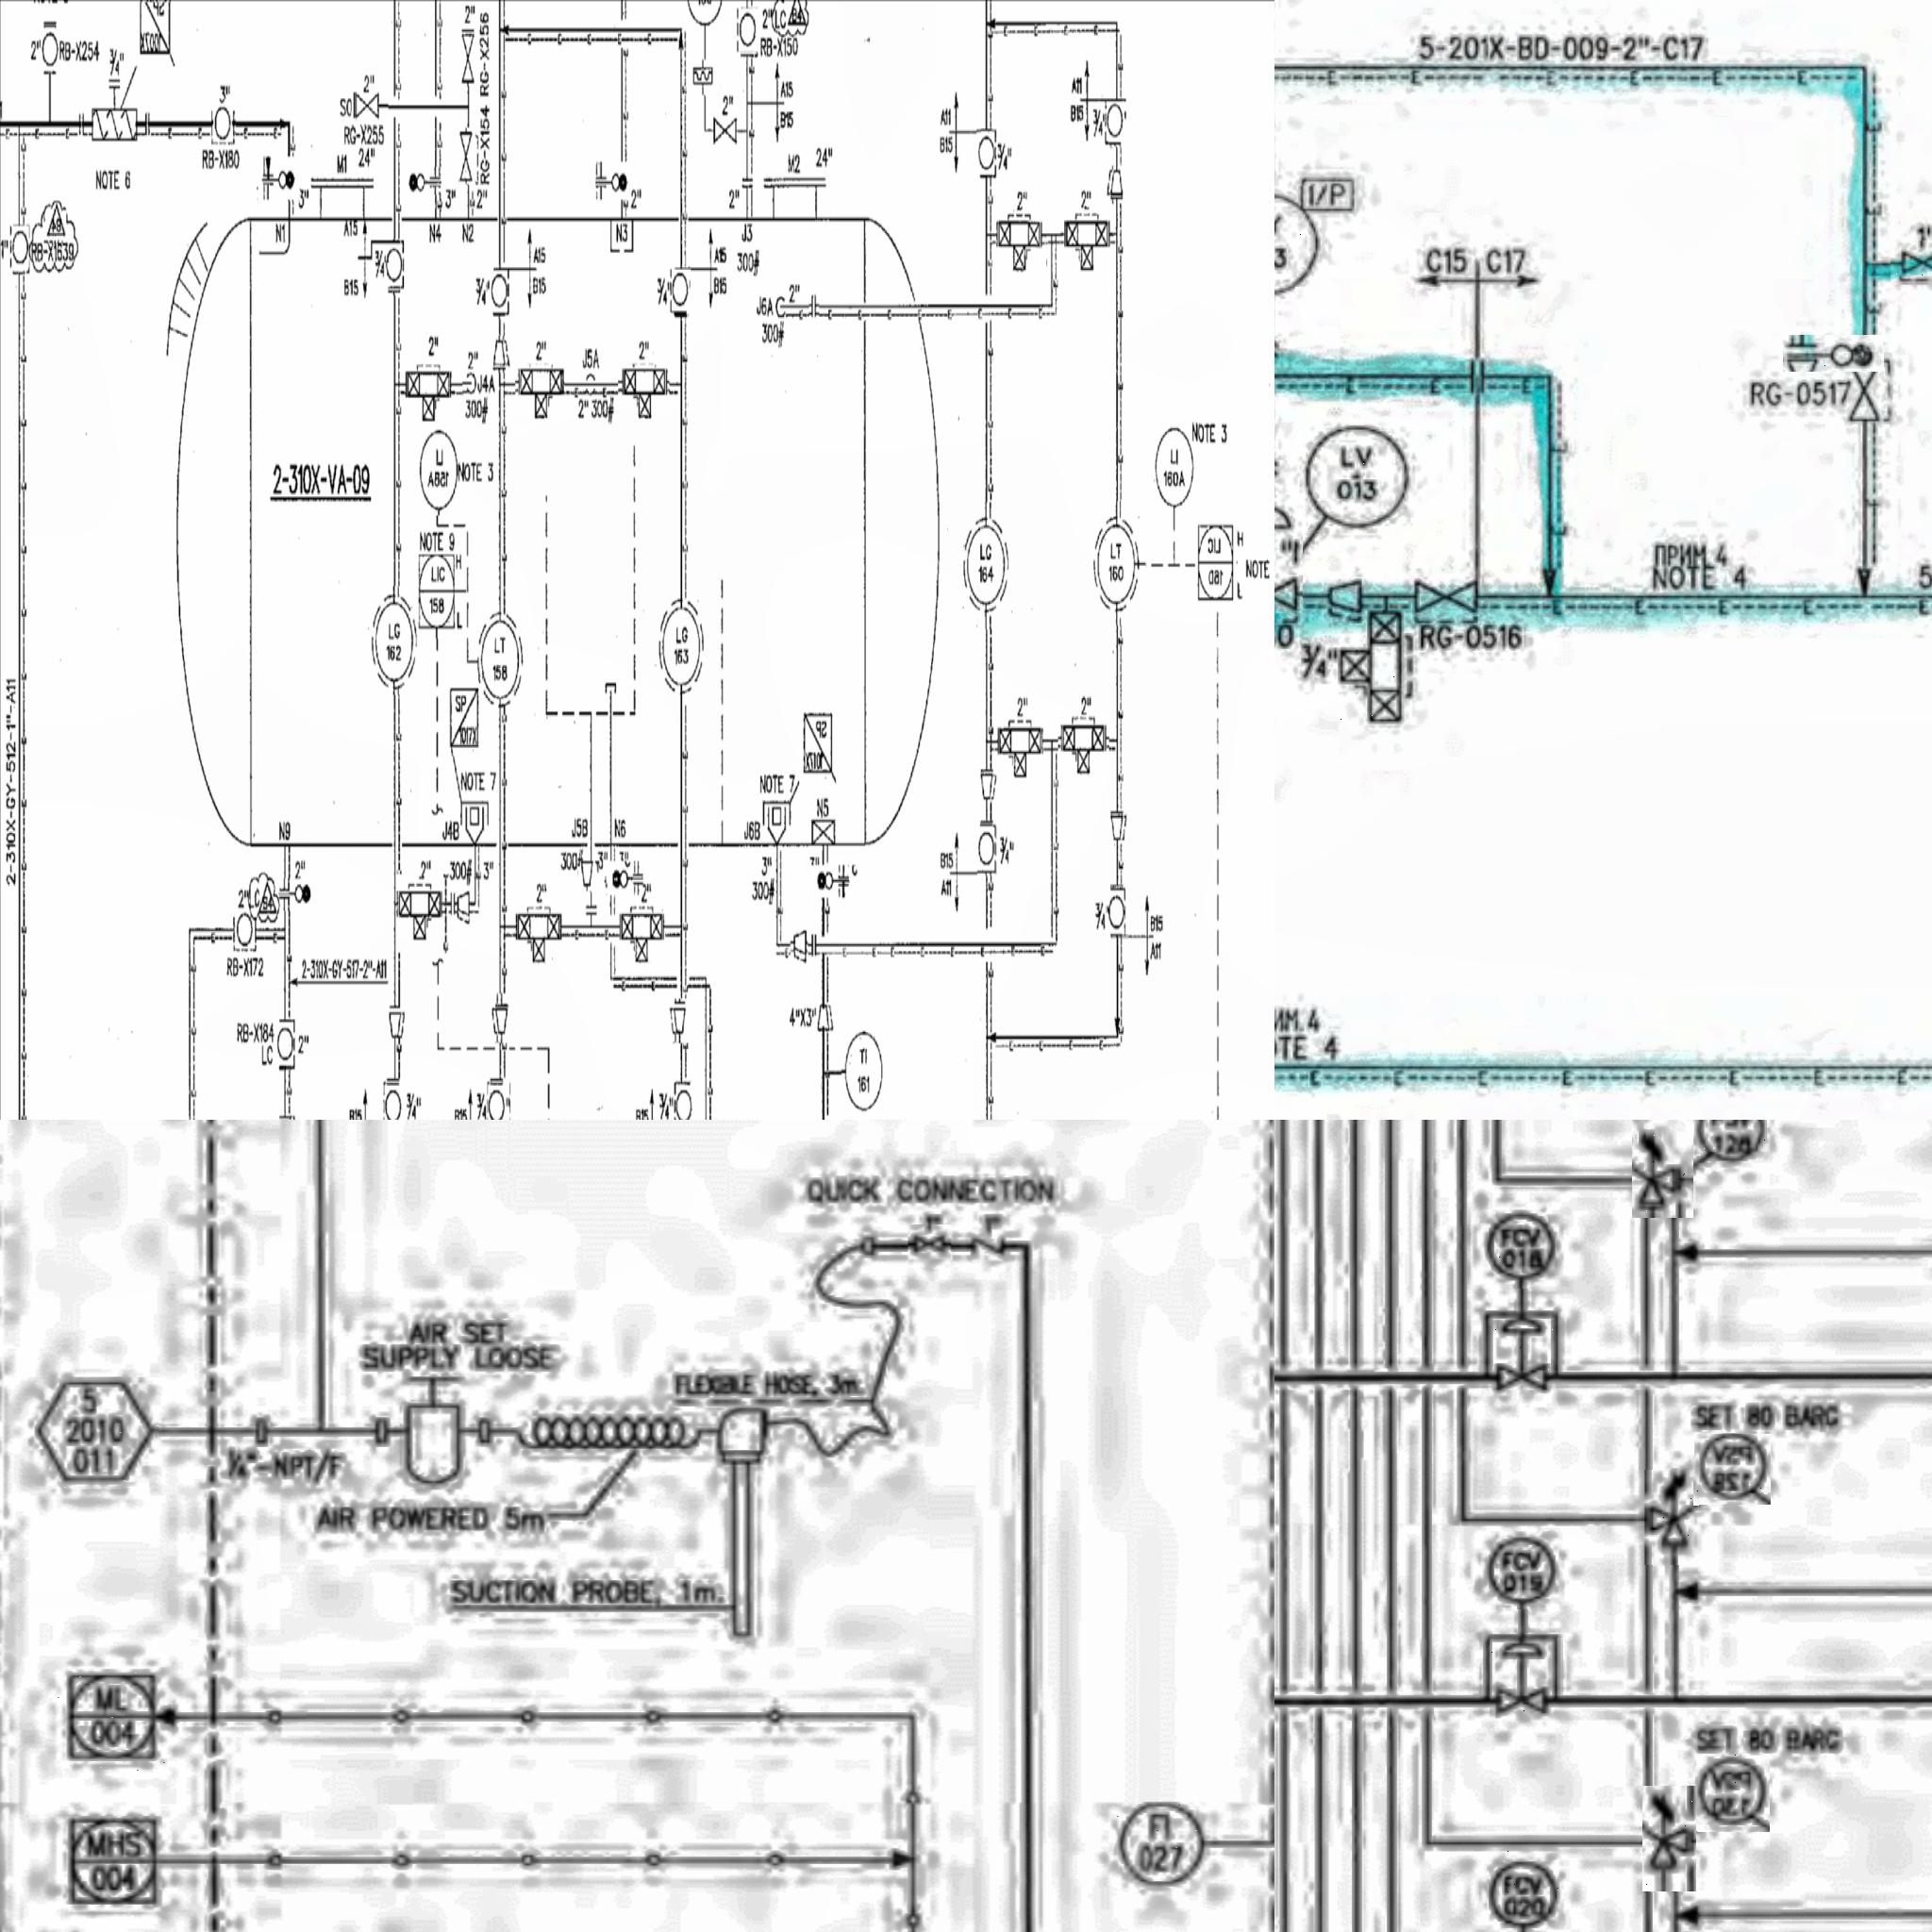2 WAY VALVE: (1332, 610, 1408, 731), (396, 874, 448, 952), (993, 209, 1047, 281), (510, 904, 568, 971), (403, 359, 456, 426), (994, 717, 1044, 784), (1058, 715, 1109, 778), (1060, 207, 1109, 272), (616, 904, 671, 961), (617, 366, 671, 423), (515, 366, 564, 423)
ANGLE RELIEF VALVE: (1633, 1120, 1695, 1217), (1644, 1787, 1698, 1893), (1645, 1470, 1700, 1566)
CONCENTRIC REDUCER: (1320, 577, 1371, 619), (488, 993, 513, 1044), (1102, 166, 1131, 205), (669, 998, 694, 1042), (1106, 803, 1127, 849), (978, 763, 996, 809), (387, 1005, 409, 1042), (814, 1001, 833, 1040), (791, 925, 809, 968), (579, 862, 600, 893), (492, 336, 510, 373), (456, 890, 474, 925)
CONNECTOR: (462, 370, 479, 400)
DCS ACCESSIBLE: (58, 1808, 173, 1920), (58, 1667, 172, 1773), (1196, 524, 1238, 610), (419, 554, 460, 639)
DIAPHRAGM ACTUATED VALVE: (1484, 1315, 1559, 1399), (1490, 1638, 1562, 1723), (1274, 495, 1302, 616)
DIAPHRAGM SEAL: (686, 60, 722, 97)
END FLANGED: (809, 280, 819, 331), (582, 901, 602, 924)
FIELD INSTRUMENT: (1297, 426, 1415, 533), (1109, 1794, 1212, 1902), (954, 502, 1019, 630), (1481, 1847, 1569, 1932), (1088, 501, 1146, 626), (1481, 1210, 1568, 1290), (1476, 1532, 1562, 1610), (1697, 1753, 1771, 1833), (1695, 1435, 1773, 1507), (1274, 186, 1325, 295), (368, 587, 419, 695), (1148, 421, 1200, 527), (655, 596, 706, 701), (479, 610, 525, 711), (842, 1030, 888, 1115), (418, 428, 458, 517), (1695, 1120, 1766, 1168), (39, 25, 64, 80), (488, 271, 513, 320), (1106, 886, 1129, 938), (384, 239, 405, 294), (274, 1019, 297, 1069), (212, 99, 235, 147), (977, 129, 998, 180), (977, 821, 996, 876), (1104, 103, 1127, 149), (736, 9, 759, 53), (382, 1077, 405, 1120), (487, 1077, 510, 1120), (671, 271, 692, 315), (235, 909, 257, 950), (11, 226, 30, 269), (672, 1081, 692, 1120)
GATE VALVE: (1847, 352, 1890, 432), (1412, 577, 1481, 619), (908, 1226, 952, 1270), (1891, 241, 1932, 283), (708, 108, 741, 154), (350, 87, 387, 126), (460, 27, 478, 85), (458, 129, 476, 186)
IP CONVERTER: (1295, 166, 1368, 221)
NO ACCESS INDICATOR: (34, 1378, 159, 1488)
REVISION TRIANGLE: (257, 874, 281, 925), (44, 202, 67, 244), (784, 0, 814, 32)
SPECIAL PIPING ITEM: (798, 702, 835, 787), (133, 2, 179, 65), (448, 676, 483, 755)
SPECTACLE BLIND OPEN: (1783, 336, 1884, 373), (257, 157, 301, 202), (810, 865, 856, 897), (607, 862, 642, 897), (596, 161, 628, 200), (280, 879, 318, 911), (403, 166, 446, 195)
